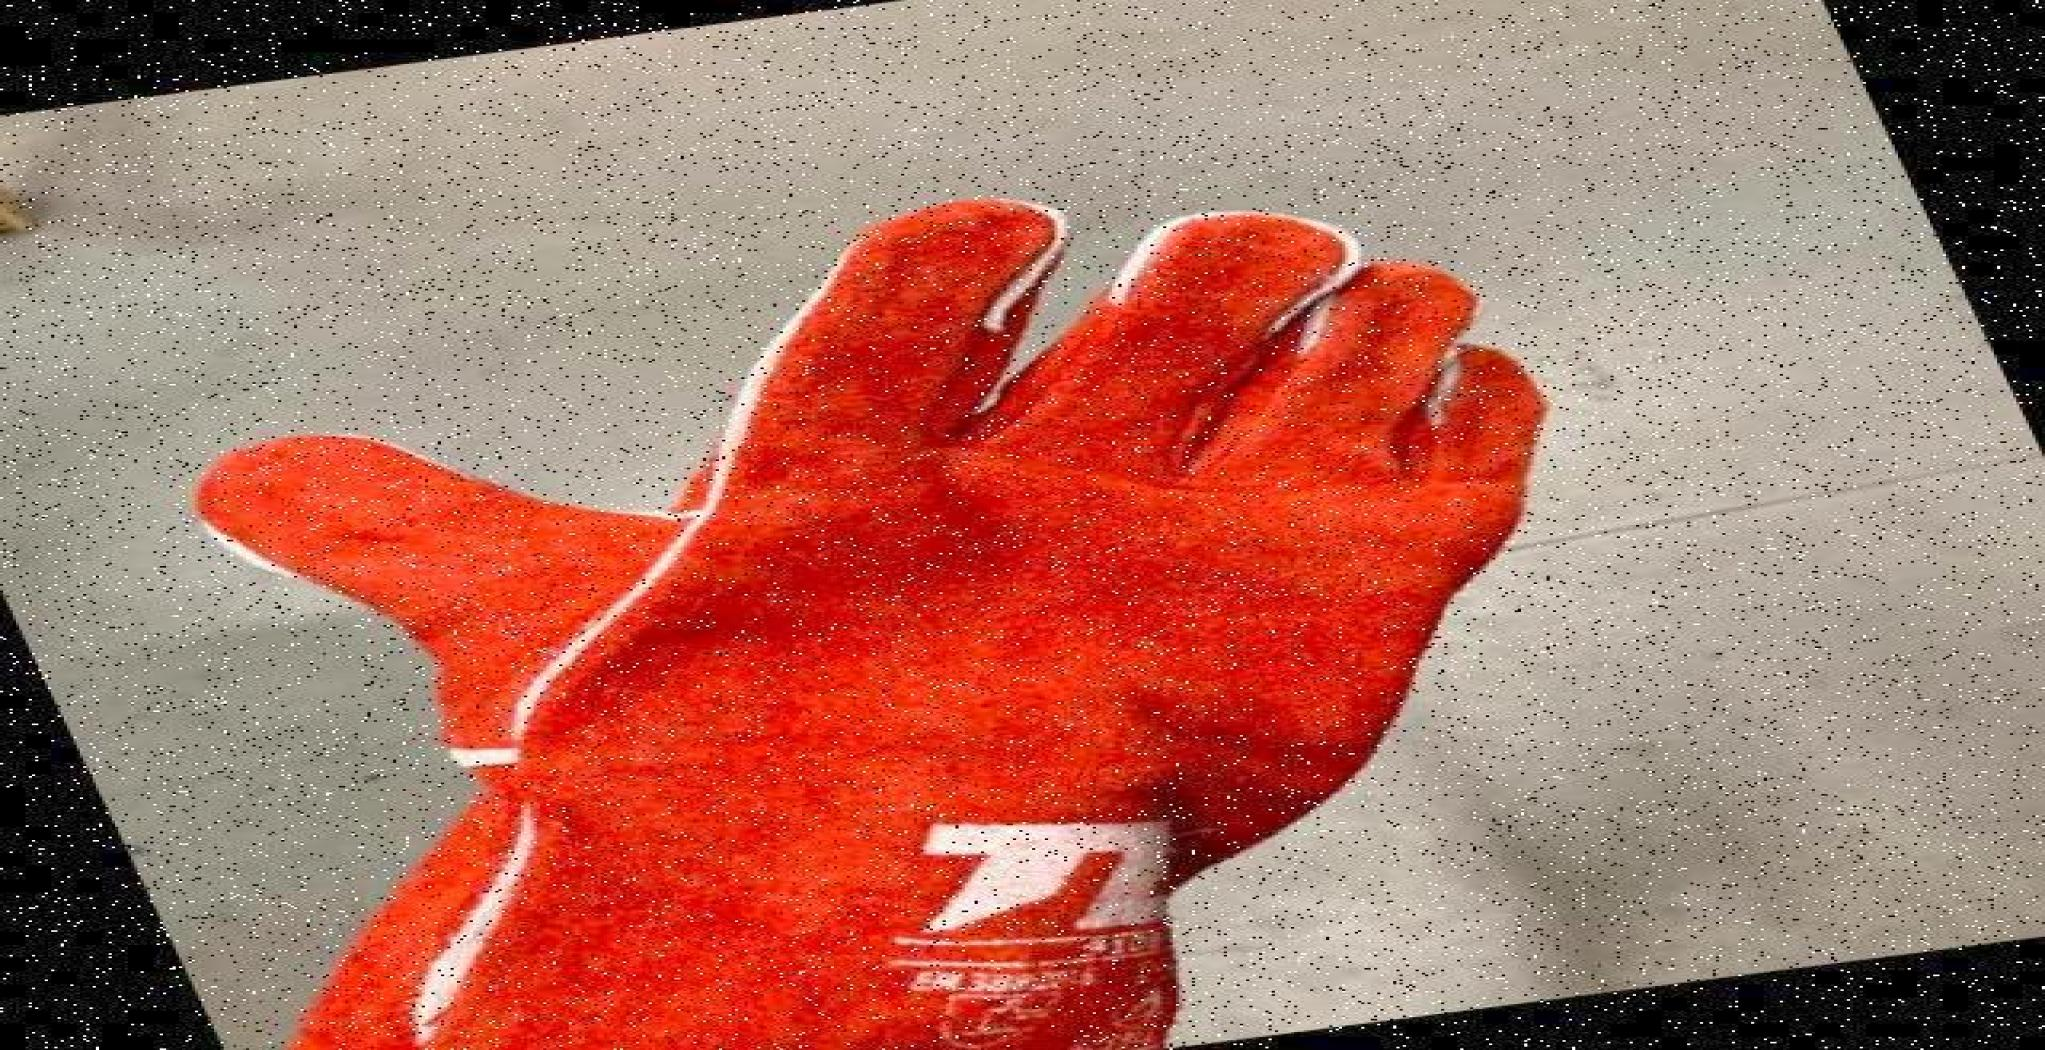gloved: (189, 196, 1549, 1049)
